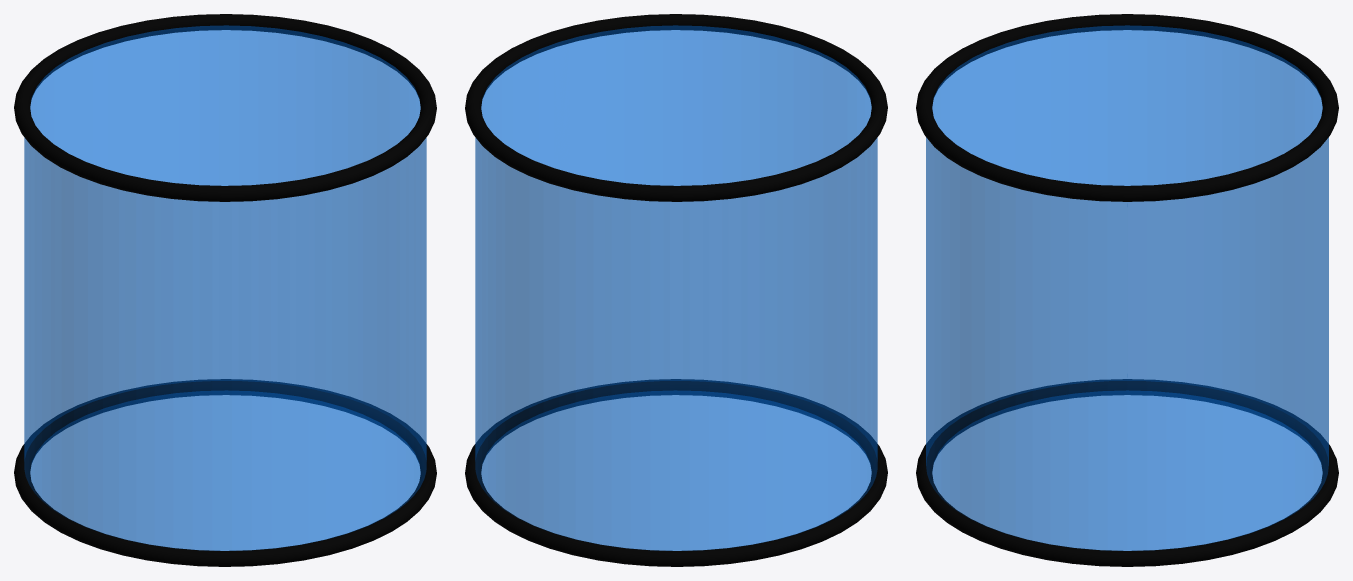
Rendered from thecylinder.fbx.
3 views of the same model, side by side, from view 1: azimuth 30°, elevation 25°; view 2: azimuth 150°, elevation 25°; view 3: azimuth 270°, elevation 25° (orthographic).
Parts seen in each view (by area): view 1: ReferenceCylinder, TopRing, BottomRing; view 2: ReferenceCylinder, TopRing, BottomRing; view 3: ReferenceCylinder, TopRing, BottomRing.
Part boxes in pixels (left/top/right/bottom): ReferenceCylinder: left=24, top=25, right=426, bottom=550; TopRing: left=14, top=14, right=436, bottom=201; BottomRing: left=14, top=379, right=436, bottom=566; ReferenceCylinder: left=475, top=25, right=877, bottom=550; TopRing: left=465, top=14, right=887, bottom=201; BottomRing: left=465, top=379, right=887, bottom=566; ReferenceCylinder: left=926, top=25, right=1328, bottom=550; TopRing: left=916, top=14, right=1338, bottom=201; BottomRing: left=916, top=379, right=1338, bottom=566.
Bounding box in the file's own units: 210 × 208 × 210.
